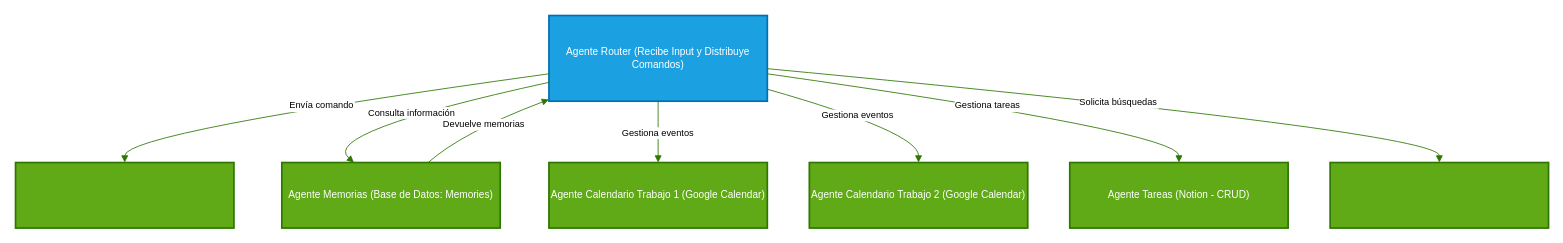
Some shapes in this 1563 by 243 pixel diagram are drawn without their labels. The box of each missing label's shape, as (x1, y1, x2, y2) in pixels:
Agente Email (Rechsteiner Construction): (14, 161, 234, 228)
Agente Investigador (SerpAPI): (1329, 161, 1549, 228)
